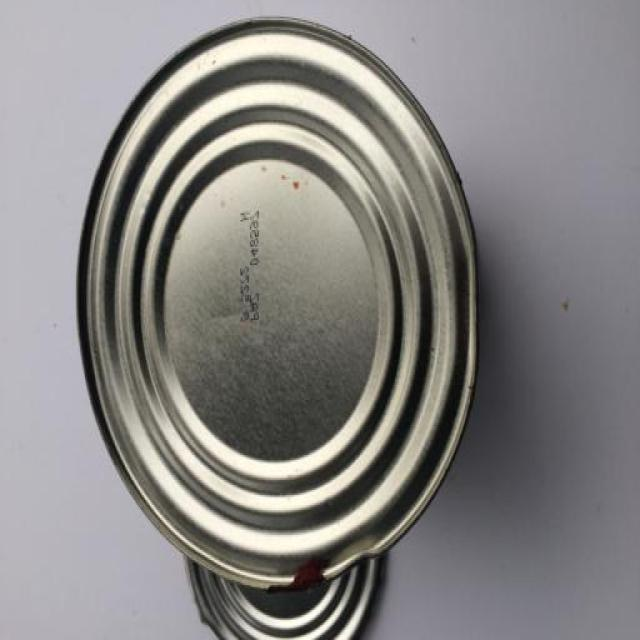Metal: (76, 15, 482, 640)
